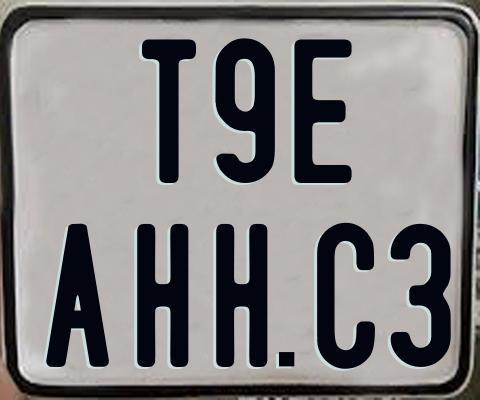3: (388, 221, 451, 368)
9: (214, 37, 276, 182)
A: (46, 221, 111, 368)
C: (315, 223, 377, 372)
E: (293, 36, 353, 186)
H: (137, 224, 195, 369), (215, 221, 268, 368)
T: (139, 38, 199, 183)
